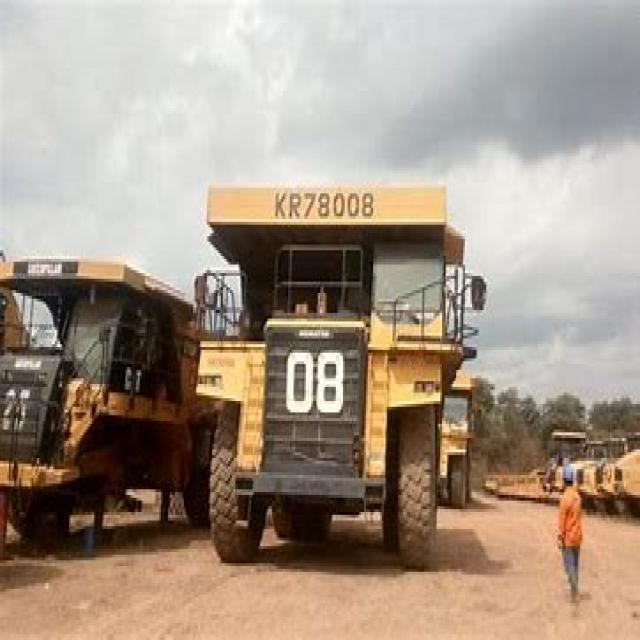dump_truck: (200, 165, 461, 575)
